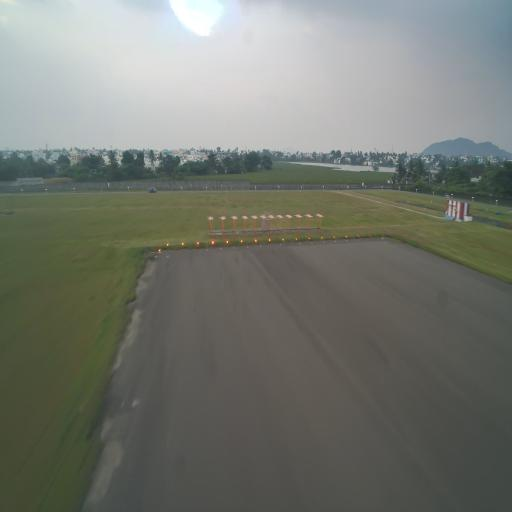on: (225, 240, 230, 247), (158, 246, 162, 254), (180, 240, 184, 248), (212, 238, 216, 246), (240, 238, 244, 246), (280, 236, 285, 242), (196, 238, 199, 247), (294, 236, 298, 242), (308, 234, 311, 242), (356, 234, 360, 240), (268, 237, 271, 244), (333, 233, 336, 240), (368, 232, 371, 239), (320, 235, 324, 240), (344, 234, 349, 238), (254, 238, 257, 244), (166, 242, 168, 247)
